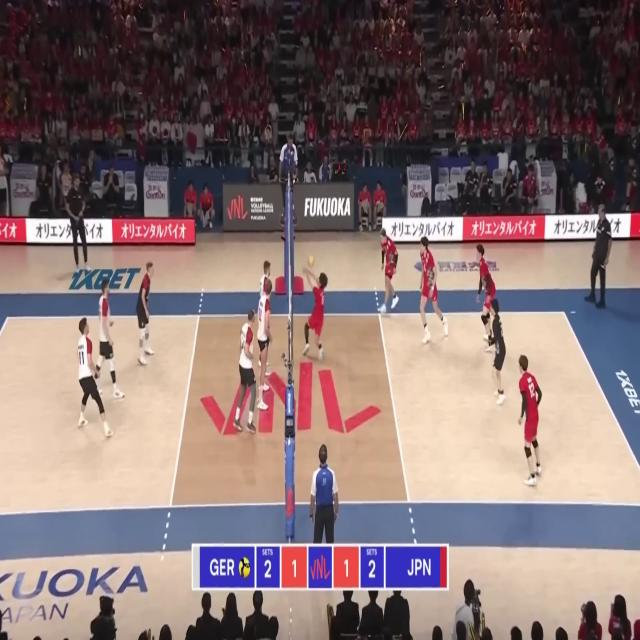referee: (309, 444, 340, 544)
team_one: (75, 316, 113, 443), (97, 279, 124, 400), (234, 310, 258, 434), (253, 282, 274, 411), (135, 261, 157, 366), (260, 260, 273, 284)
team_two: (414, 236, 450, 347), (517, 352, 543, 488), (302, 264, 328, 364), (475, 241, 495, 347), (488, 298, 507, 404), (379, 227, 400, 315)
